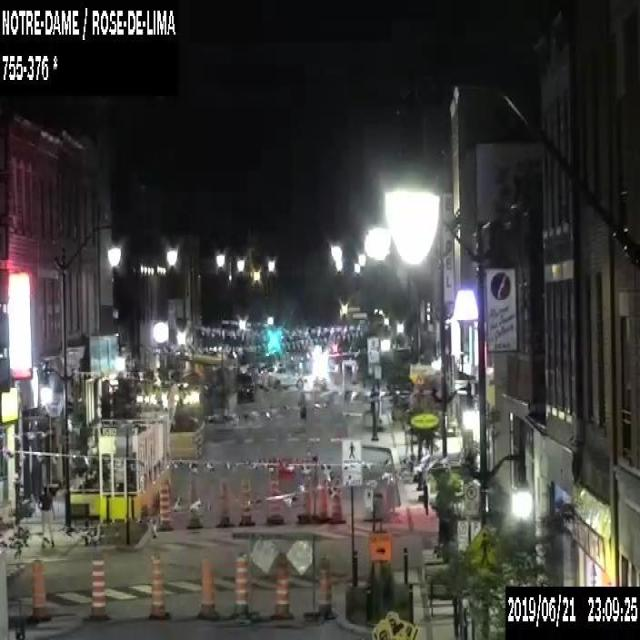construction: (227, 552, 253, 622), (313, 554, 338, 618), (270, 553, 294, 619), (195, 550, 218, 618), (370, 610, 421, 639), (87, 552, 108, 621), (148, 553, 169, 620), (28, 558, 50, 620), (266, 464, 284, 524), (187, 469, 203, 528), (156, 481, 173, 531), (216, 477, 233, 527), (297, 474, 314, 522), (330, 476, 345, 524), (239, 478, 254, 526), (315, 475, 330, 523), (369, 532, 392, 560)
pedestrian: (36, 485, 54, 548), (297, 392, 306, 421)
vehicle: (257, 363, 303, 389), (236, 372, 254, 399)
